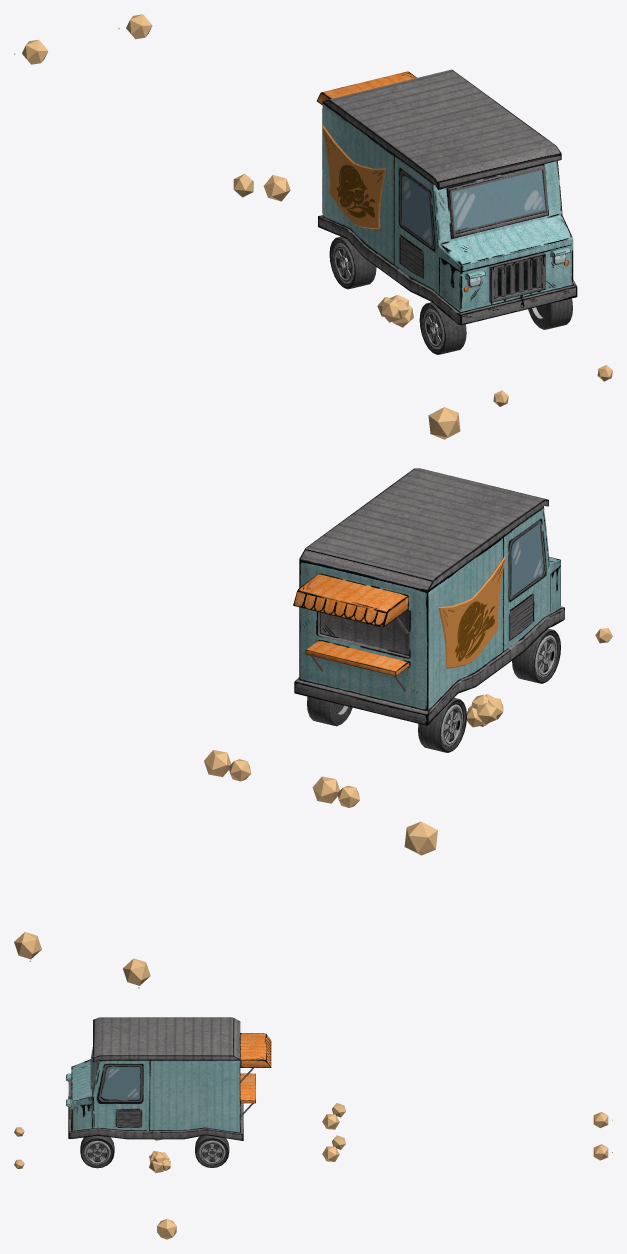
File: burger boy1.glb
3 views of the same model, one above another, from view 1: azimuth 30°, elevation 25°; view 2: azimuth 150°, elevation 25°; view 3: azimuth 270°, elevation 25° (orthographic). The views are drawn at different scales.
Visible parts, largest first — view 1: truck1, logo_banner, tire4.001, tire4, Dust; view 2: truck1, logo_banner, tire4, tire4.001, Dust; view 3: truck1, tire4.001, tire4, Dust.
Part boxes in pixels (x1,y1,x2,y2): truck1: [317, 69, 577, 325]; logo_banner: [322, 125, 385, 228]; tire4.001: [419, 298, 572, 354]; tire4: [329, 236, 376, 289]; Dust: [428, 407, 460, 439]; truck1: [293, 468, 564, 725]; logo_banner: [438, 556, 505, 668]; tire4: [307, 696, 466, 752]; tire4.001: [512, 628, 560, 683]; Dust: [404, 821, 437, 855]; truck1: [66, 1017, 271, 1140]; tire4.001: [80, 1135, 114, 1168]; tire4: [195, 1135, 229, 1167]; Dust: [157, 1219, 176, 1239].
Bounding box in the file's own units: 1.81 × 3.5 × 9.39.
4 materials, 3 textured.
